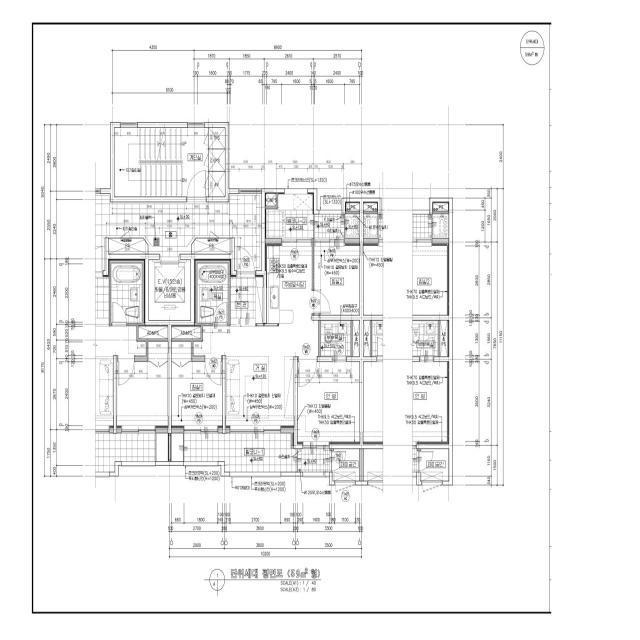space_balconi: (171, 433, 329, 472), (266, 194, 360, 238)
space_bedroom: (298, 362, 360, 444), (171, 342, 222, 428), (314, 244, 360, 315)
space_elevator: (149, 260, 191, 320)
space_elevator_hall: (105, 193, 262, 270)
space_front: (230, 275, 263, 326)
space_kitchen: (265, 244, 312, 326)
space_living_room: (193, 320, 319, 428)
space_other: (209, 128, 225, 197), (333, 449, 359, 481), (192, 238, 231, 254), (109, 238, 148, 254), (171, 326, 201, 339), (353, 320, 360, 356), (265, 193, 276, 206), (345, 202, 360, 211)
space_staircase: (115, 128, 208, 197)
space_toilet: (197, 263, 228, 323), (320, 320, 351, 357)
